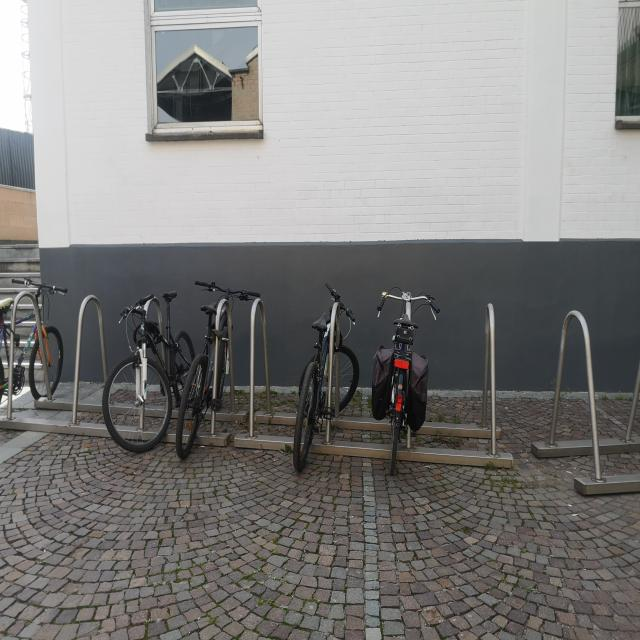Bicycle: (282, 294, 370, 489), (172, 266, 254, 460), (373, 276, 438, 494), (114, 285, 183, 467), (0, 264, 56, 464)
